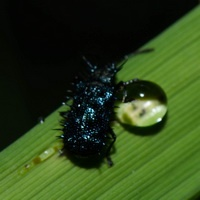insect: (16, 79, 167, 175)
